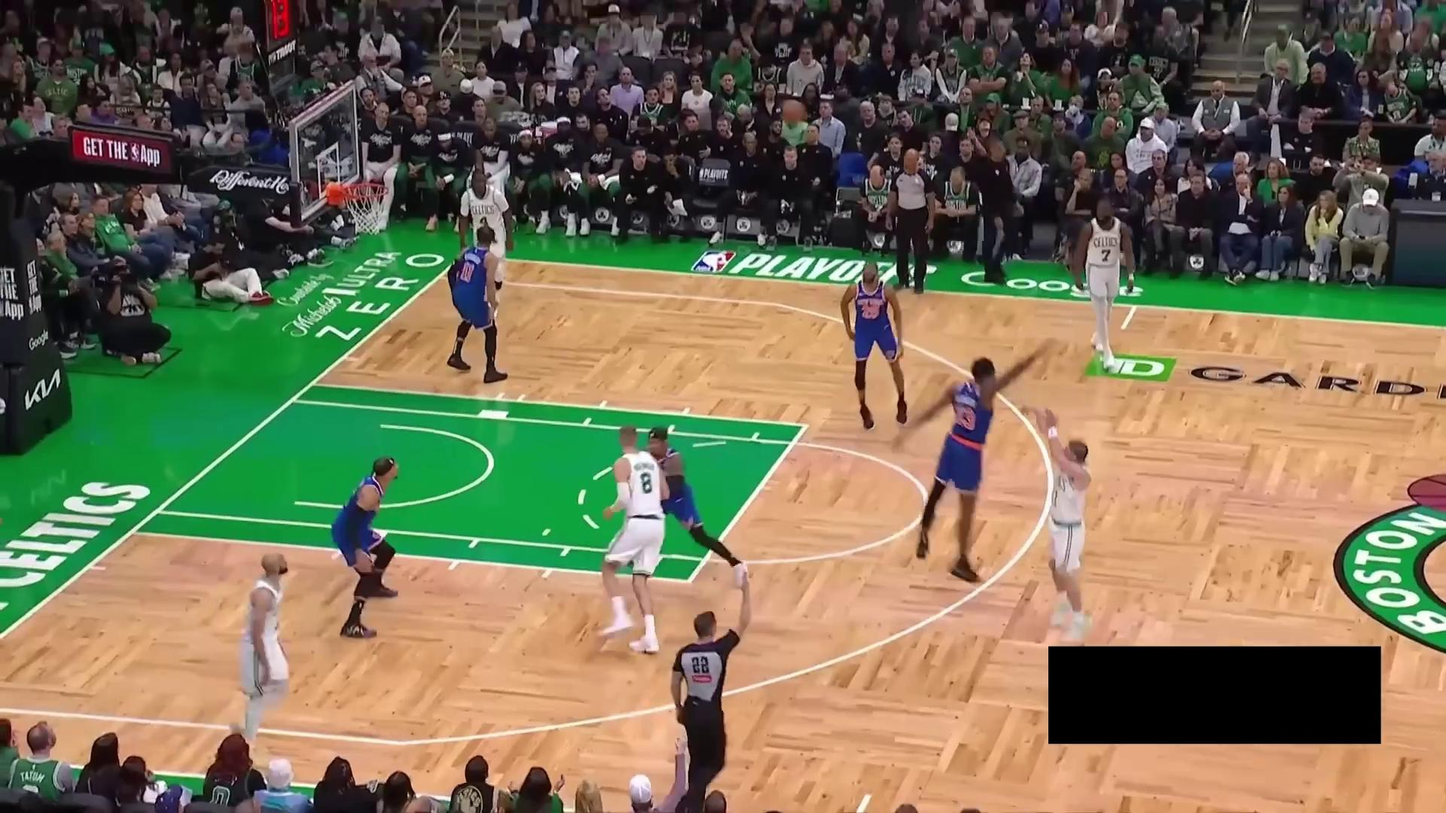ball: (781, 99, 803, 121)
number: (954, 401, 977, 432), (859, 299, 882, 320), (458, 260, 476, 283), (640, 469, 652, 496), (1100, 247, 1112, 263), (480, 214, 490, 227)
player: (644, 424, 754, 591), (596, 424, 670, 655), (327, 452, 403, 637), (231, 549, 296, 752), (841, 260, 909, 430), (1072, 196, 1137, 369), (447, 224, 509, 383), (458, 170, 515, 324)
player-jump-shot: (1018, 403, 1102, 642)
player-shot-block: (890, 333, 1058, 583)
referee: (664, 569, 760, 813), (885, 148, 937, 295)
rim: (343, 181, 388, 199)
